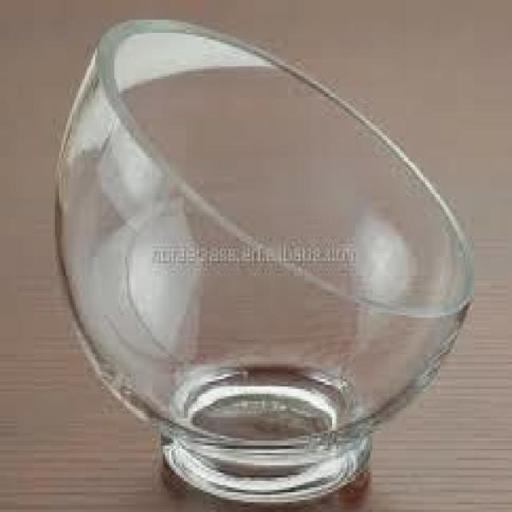glass: (42, 4, 482, 490)
